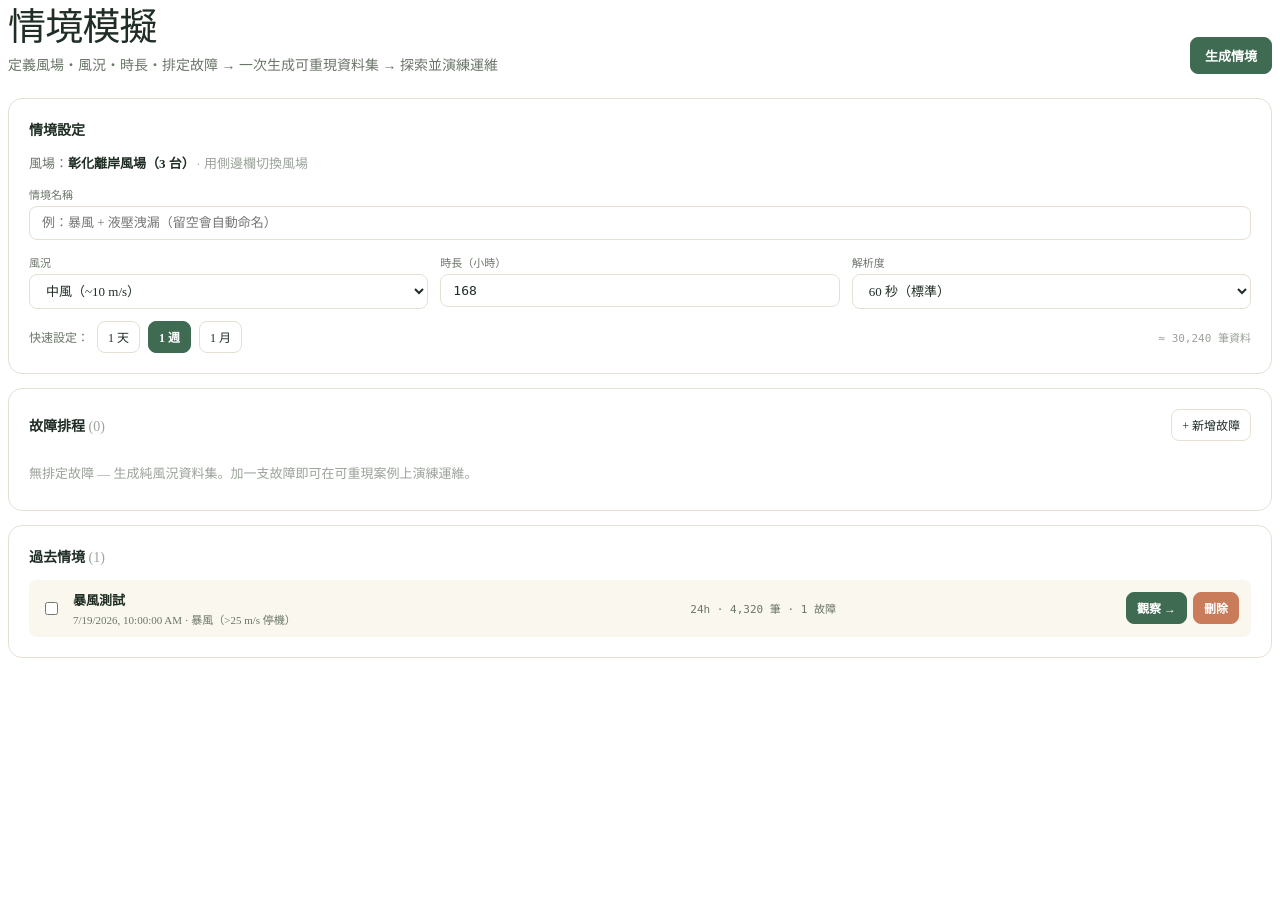
it: ScenarioPage — 時長 preset › 點「1 月」把時長設為 720
Click the button "1 月" at (220, 337), box 199,321 -> 242,353
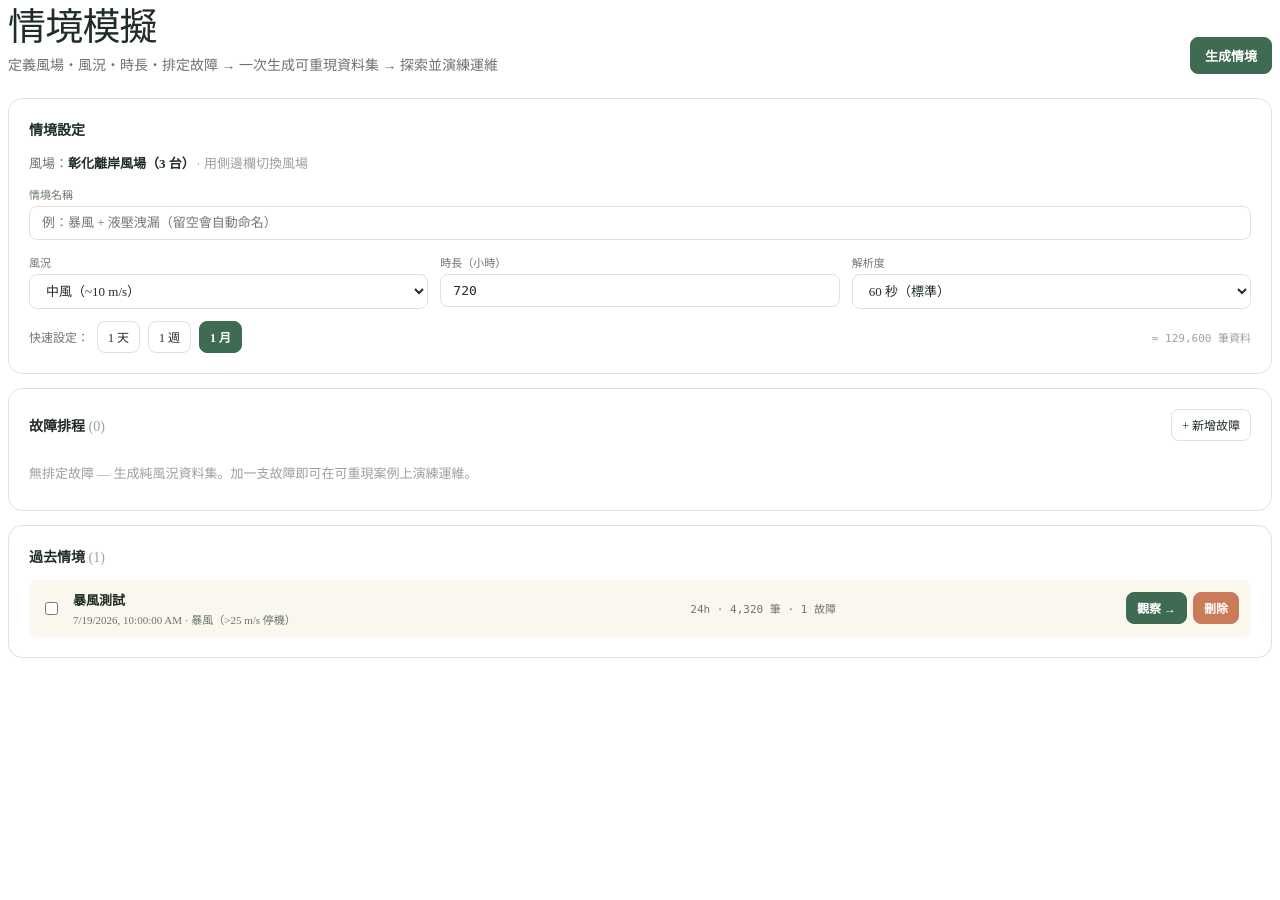
Expected: the number field named "時長小時" holds "720", 440,274 -> 840,307
